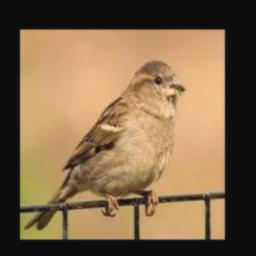Sparrow: (25, 61, 186, 230)
